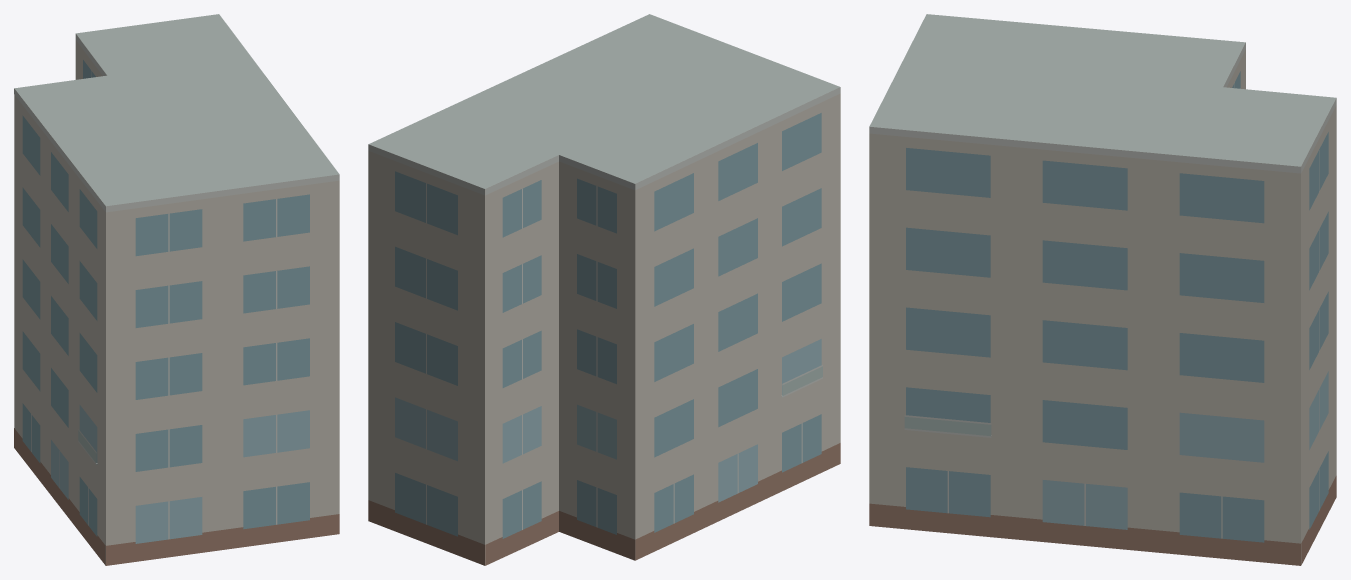
File: survey-upis-32587582.glb
3 views of the same model, side by side, from view 1: azimuth 30°, elevation 25°; view 2: azimuth 150°, elevation 25°; view 3: azimuth 270°, elevation 25° (orthographic). The views are drawn at different scales.
Parts seen in each view (by area): view 1: survey-upis-32587582.tmp; view 2: survey-upis-32587582.tmp; view 3: survey-upis-32587582.tmp.
Part boxes in pixels (<box>): survey-upis-32587582.tmp: <box>14,14,339,565</box>; survey-upis-32587582.tmp: <box>368,14,840,565</box>; survey-upis-32587582.tmp: <box>869,14,1336,565</box>.
Bounding box in the file's own units: 11.74 × 14.3 × 15.19.
